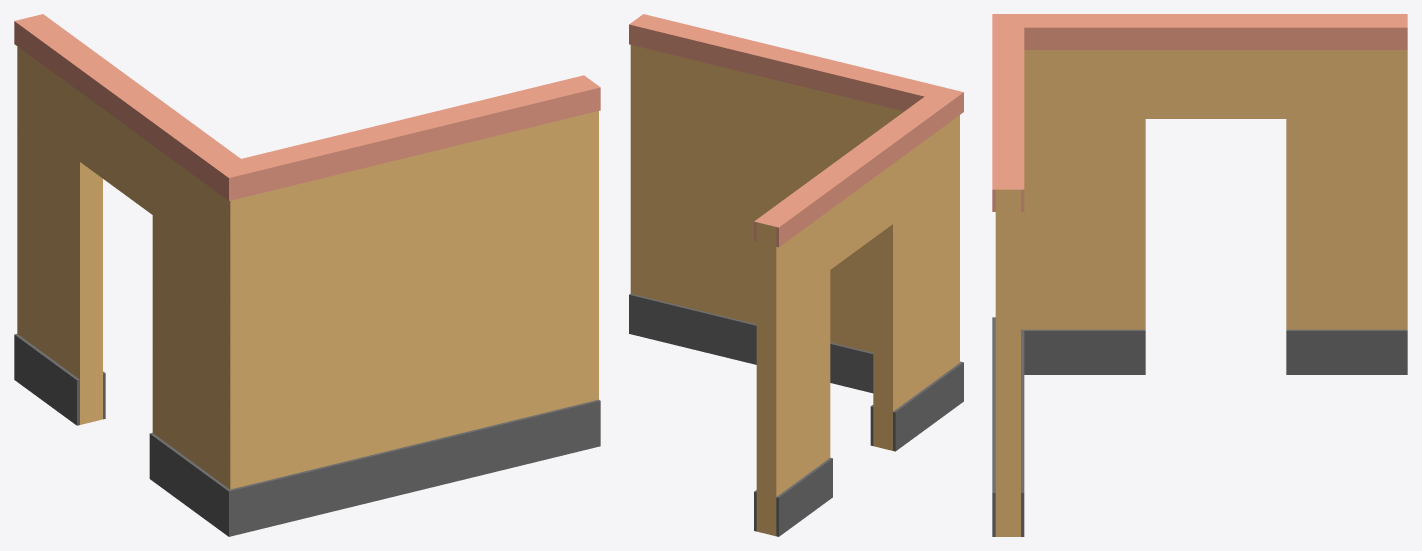
Rendered from Wall01-02.fbx.
The picture shows the model from 3 angles, left to right: view 1: azimuth 30°, elevation 25°; view 2: azimuth 150°, elevation 25°; view 3: azimuth 270°, elevation 25°; orthographic projection. The views are drawn at different scales.
Visible parts, largest first — view 1: Wall01-02; view 2: Wall01-02; view 3: Wall01-02.
Part boxes in pixels (box(x1,y1,x2,y2)): Wall01-02: box(14, 14, 600, 536); Wall01-02: box(629, 14, 963, 536); Wall01-02: box(992, 14, 1407, 536).
Size of the model in its own units: 3.25 by 3.25 by 3.
